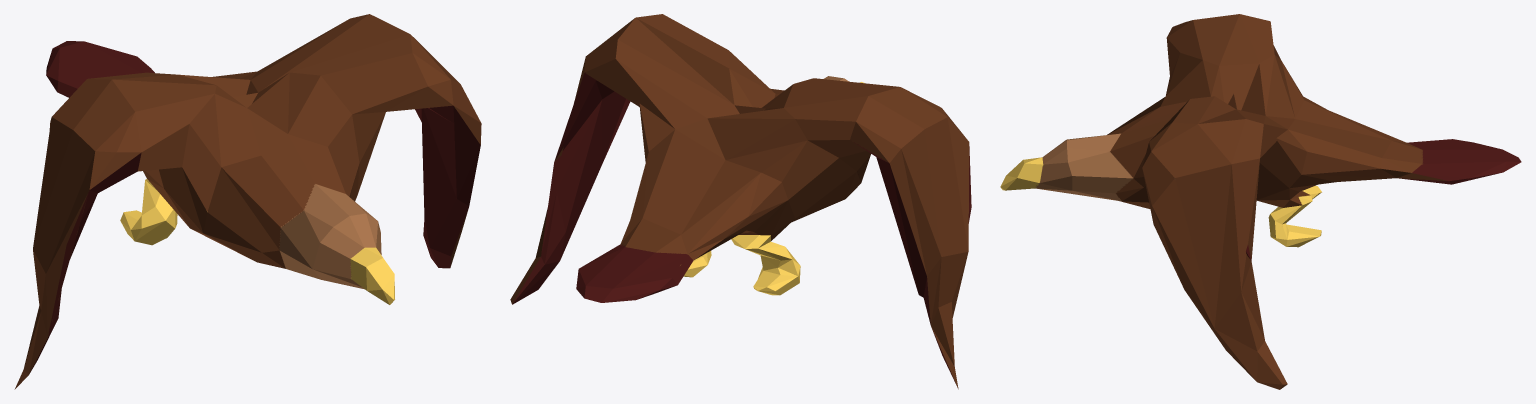
File: aguili_000029.obj
3 views of the same model, side by side, from view 1: azimuth 30°, elevation 25°; view 2: azimuth 150°, elevation 25°; view 3: azimuth 270°, elevation 25° (orthographic). The views are drawn at different scales.
Visible parts, largest first — view 1: aguila.001_Cube.001; view 2: aguila.001_Cube.001; view 3: aguila.001_Cube.001.
Boxes of the visible parts, x1,y1,x2,y2 form: aguila.001_Cube.001: (14,14,481,389); aguila.001_Cube.001: (510,14,971,389); aguila.001_Cube.001: (1000,14,1521,389).
Size of the model in its own units: 45.84 by 28.18 by 56.5.
1 material, 1 textured.
